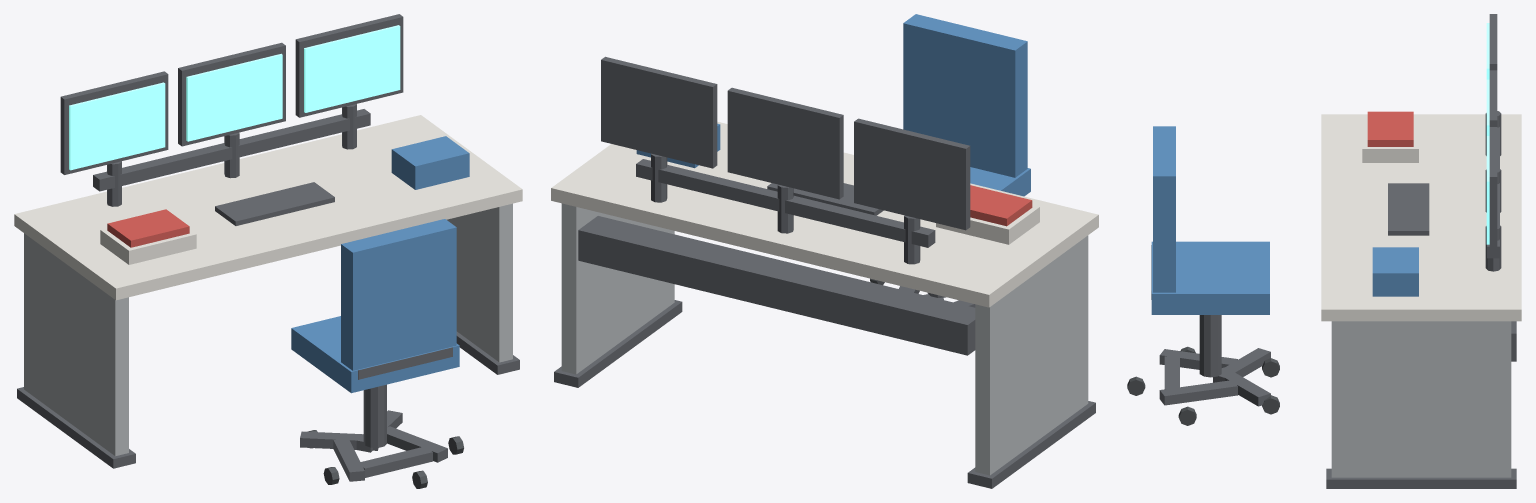
File: parcel-depot-and-sorting-hall-parcel-depot-and-sorting-c294a285__34823.glb
3 views of the same model, side by side, from view 1: azimuth 30°, elevation 25°; view 2: azimuth 150°, elevation 25°; view 3: azimuth 270°, elevation 25° (orthographic). The views are drawn at different scales.
Visible parts, largest first — view 1: parcel-depot-and-sorting-hall-supervisor-desk-with-screens; view 2: parcel-depot-and-sorting-hall-supervisor-desk-with-screens; view 3: parcel-depot-and-sorting-hall-supervisor-desk-with-screens.
Boxes of the visible parts, bbox=[...] form: parcel-depot-and-sorting-hall-supervisor-desk-with-screens: bbox=[14, 14, 522, 488]; parcel-depot-and-sorting-hall-supervisor-desk-with-screens: bbox=[551, 14, 1098, 488]; parcel-depot-and-sorting-hall-supervisor-desk-with-screens: bbox=[1127, 14, 1521, 488].
Bounding box in the file's own units: 1.8 × 1.27 × 1.53.
